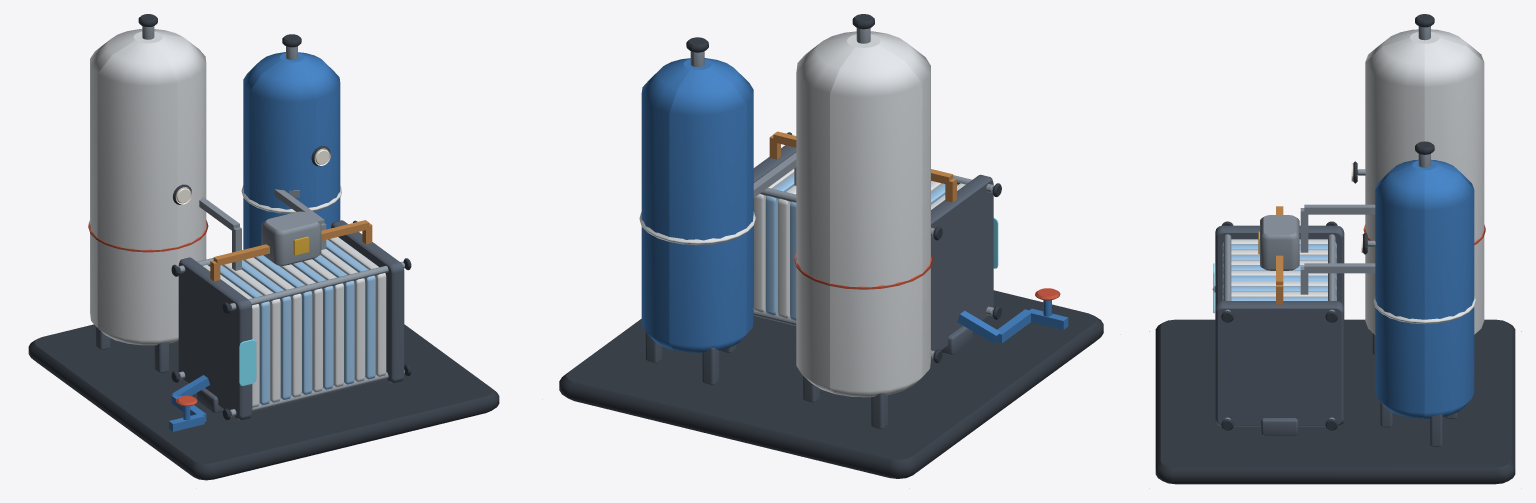
Rendered from electrolyseur.glb.
3 renders of one model, left to right at view 1: azimuth 30°, elevation 25°; view 2: azimuth 150°, elevation 25°; view 3: azimuth 270°, elevation 25°, orthographic. The views are drawn at different scales.
Parts seen in each view (by area): view 1: pieces_av_blanc.004, pieces_av_fonce.006, pieces_av_bleu.004, pieces_av_sombre.006, pieces_av_bleu_clair.002, pieces_av_gris.006, pieces_av_cuivre.004, voyant_electrolyse_av_ecran.002, pieces_av_rouge.002; view 2: pieces_av_blanc.004, pieces_av_fonce.006, pieces_av_bleu.004, pieces_av_sombre.006, pieces_av_bleu_clair.002, pieces_av_gris.006, pieces_av_cuivre.004, pieces_av_rouge.002; view 3: pieces_av_fonce.006, pieces_av_bleu.004, pieces_av_blanc.004, pieces_av_sombre.006, pieces_av_gris.006, pieces_av_bleu_clair.002, pieces_av_cuivre.004.
Boxes of the visible parts, x1=… form: pieces_av_blanc.004: x1=90, y1=29, x2=386, y2=407; pieces_av_fonce.006: x1=28, y1=14, x2=499, y2=480; pieces_av_bleu.004: x1=169, y1=52, x2=340, y2=431; pieces_av_sombre.006: x1=95, y1=220, x2=404, y2=420; pieces_av_bleu_clair.002: x1=209, y1=239, x2=375, y2=404; pieces_av_gris.006: x1=142, y1=26, x2=404, y2=416; pieces_av_cuivre.004: x1=210, y1=220, x2=372, y2=281; voyant_electrolyse_av_ecran.002: x1=239, y1=339, x2=256, y2=385; pieces_av_rouge.002: x1=88, y1=220, x2=208, y2=406; pieces_av_blanc.004: x1=639, y1=31, x2=965, y2=397; pieces_av_fonce.006: x1=559, y1=14, x2=1103, y2=478; pieces_av_bleu.004: x1=641, y1=58, x2=1068, y2=352; pieces_av_sombre.006: x1=645, y1=145, x2=993, y2=429; pieces_av_bleu_clair.002: x1=765, y1=174, x2=957, y2=320; pieces_av_gris.006: x1=690, y1=28, x2=993, y2=358; pieces_av_cuivre.004: x1=769, y1=131, x2=956, y2=202; pieces_av_rouge.002: x1=794, y1=252, x2=1060, y2=300; pieces_av_fonce.006: x1=1155, y1=14, x2=1515, y2=484; pieces_av_bleu.004: x1=1375, y1=159, x2=1474, y2=418; pieces_av_blanc.004: x1=1222, y1=29, x2=1484, y2=334; pieces_av_sombre.006: x1=1215, y1=225, x2=1457, y2=446; pieces_av_gris.006: x1=1224, y1=26, x2=1430, y2=419; pieces_av_bleu_clair.002: x1=1222, y1=244, x2=1336, y2=300; pieces_av_cuivre.004: x1=1276, y1=206, x2=1283, y2=304.
Bounding box in the file's own units: 1.5 × 1.59 × 1.5.
